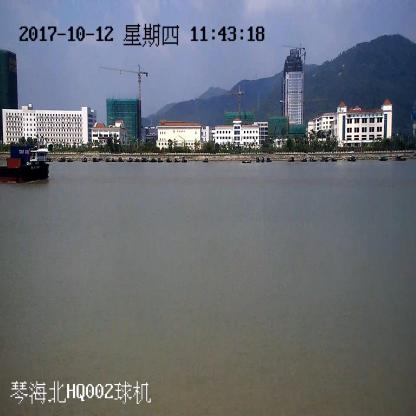Container Ship: (0, 147, 49, 183)
